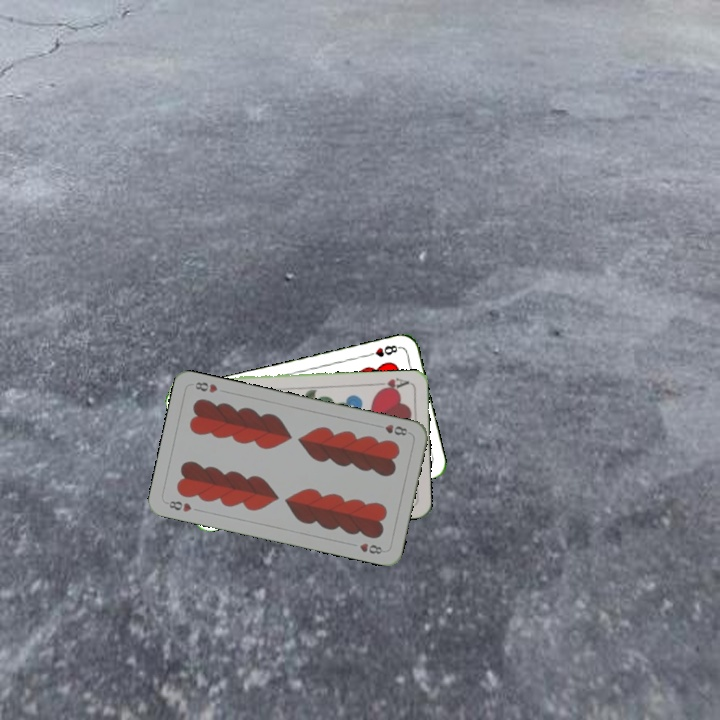H8: (362, 341, 403, 359), (372, 420, 410, 438), (162, 497, 194, 515)
HA: (371, 374, 412, 394)
